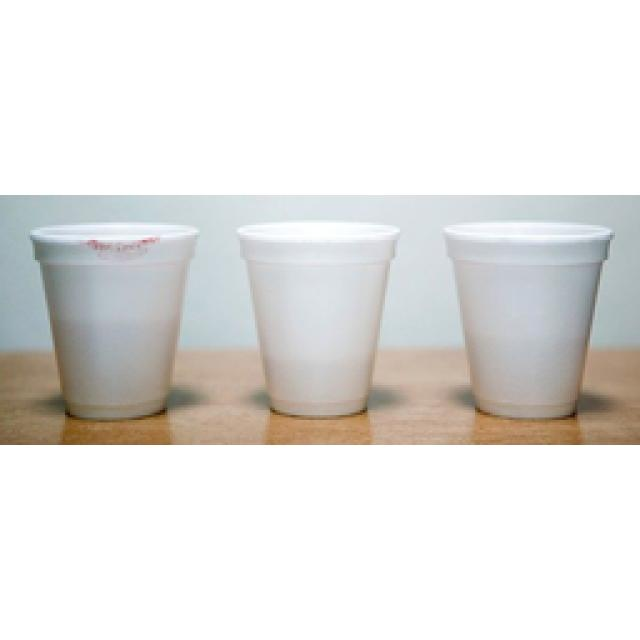styrofoam: (442, 222, 610, 418), (30, 222, 198, 418), (238, 222, 398, 412)
